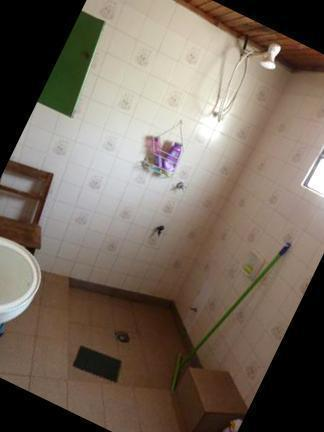Lavamanos: (0, 214, 58, 375)
